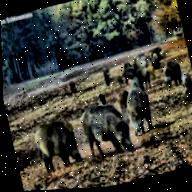boar: (74, 93, 135, 163), (23, 112, 86, 179), (122, 82, 159, 139), (153, 54, 182, 86), (175, 68, 192, 103)
